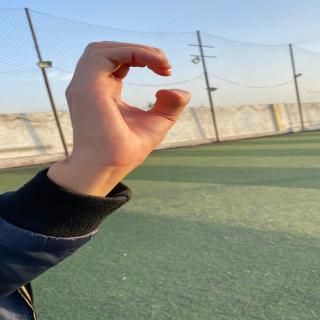JEEM: (52, 29, 231, 186)
